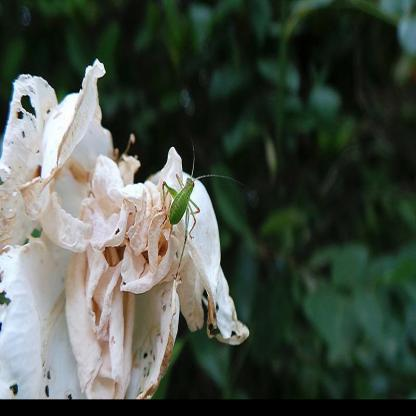aphid: (158, 154, 219, 259)
